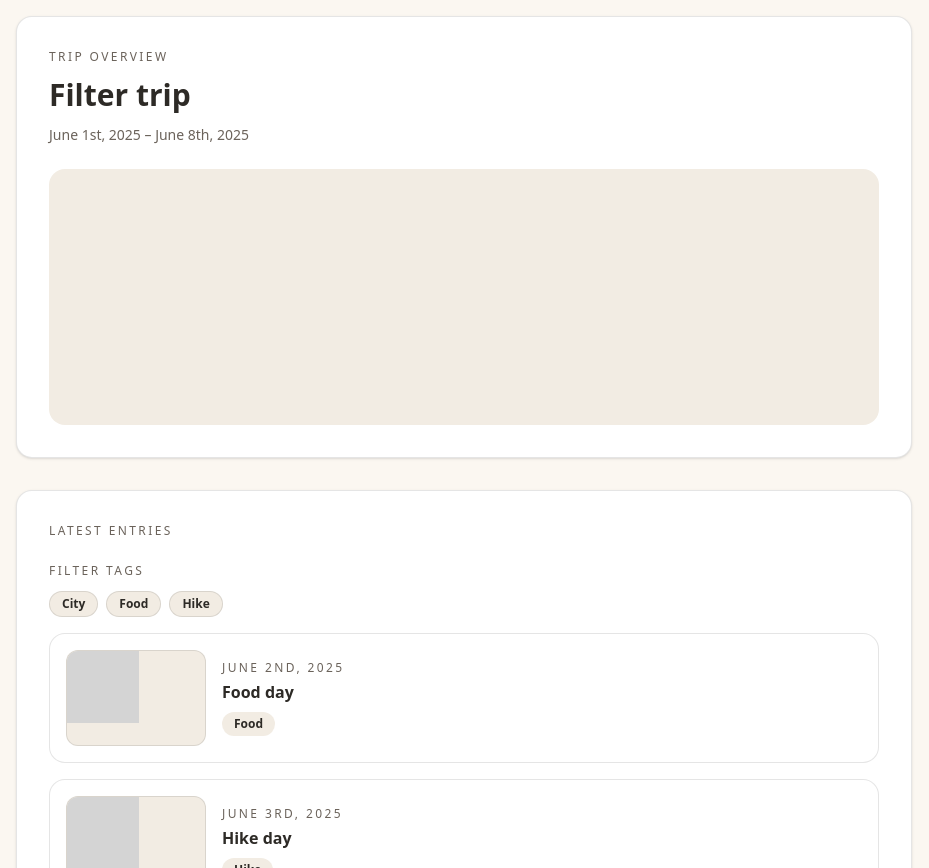
it: TripOverview › filters entries with OR tag logic
Click the button "Food".
click(134, 604)  # box [106,591,161,617]
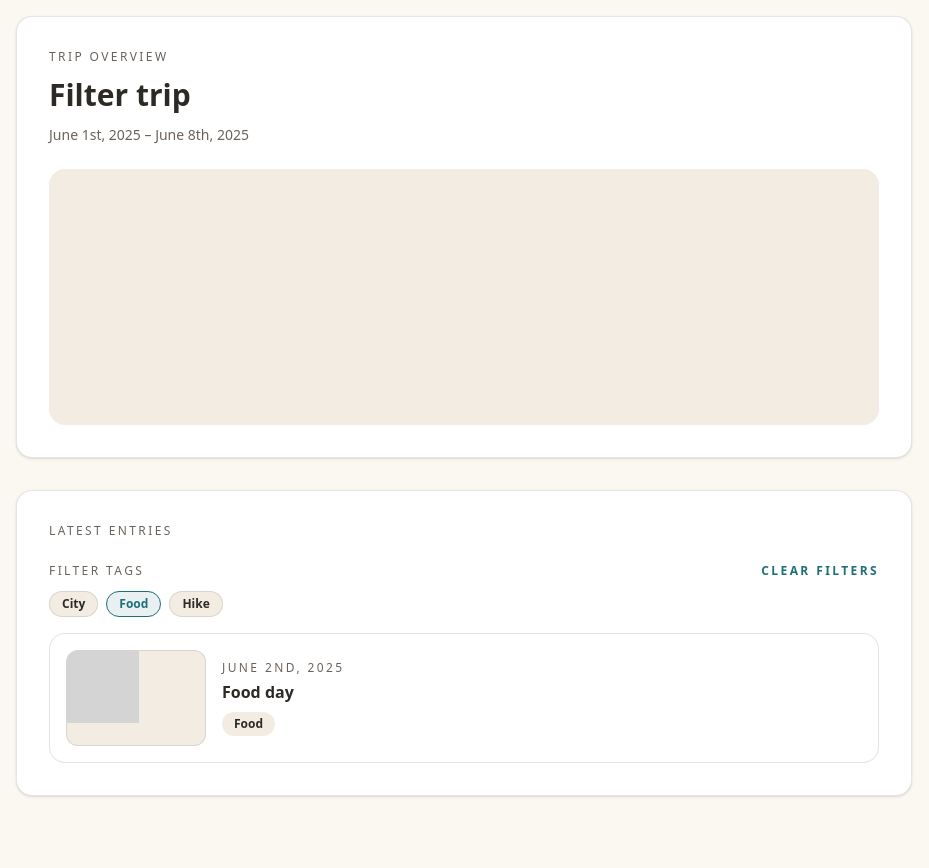
Click the button "Hike".
click(196, 604)  # box [169,591,223,617]
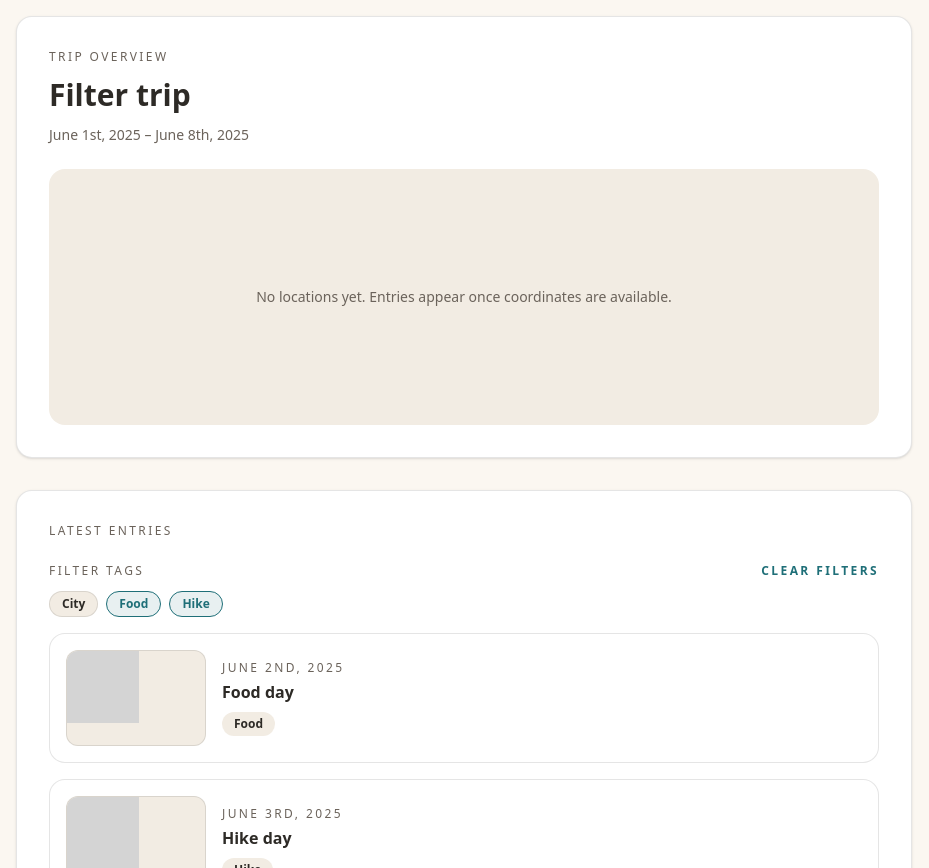
Check: the text "Food day" is shown, box [222,680,294,704]
Check: the text "Hike day" is shown, box [222,826,292,850]
